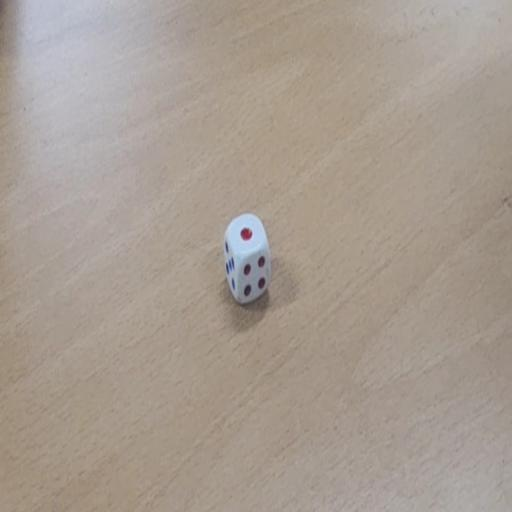dice_1: (222, 211, 273, 309)
